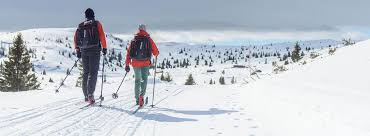skis: (130, 102, 150, 117), (78, 98, 97, 110)
